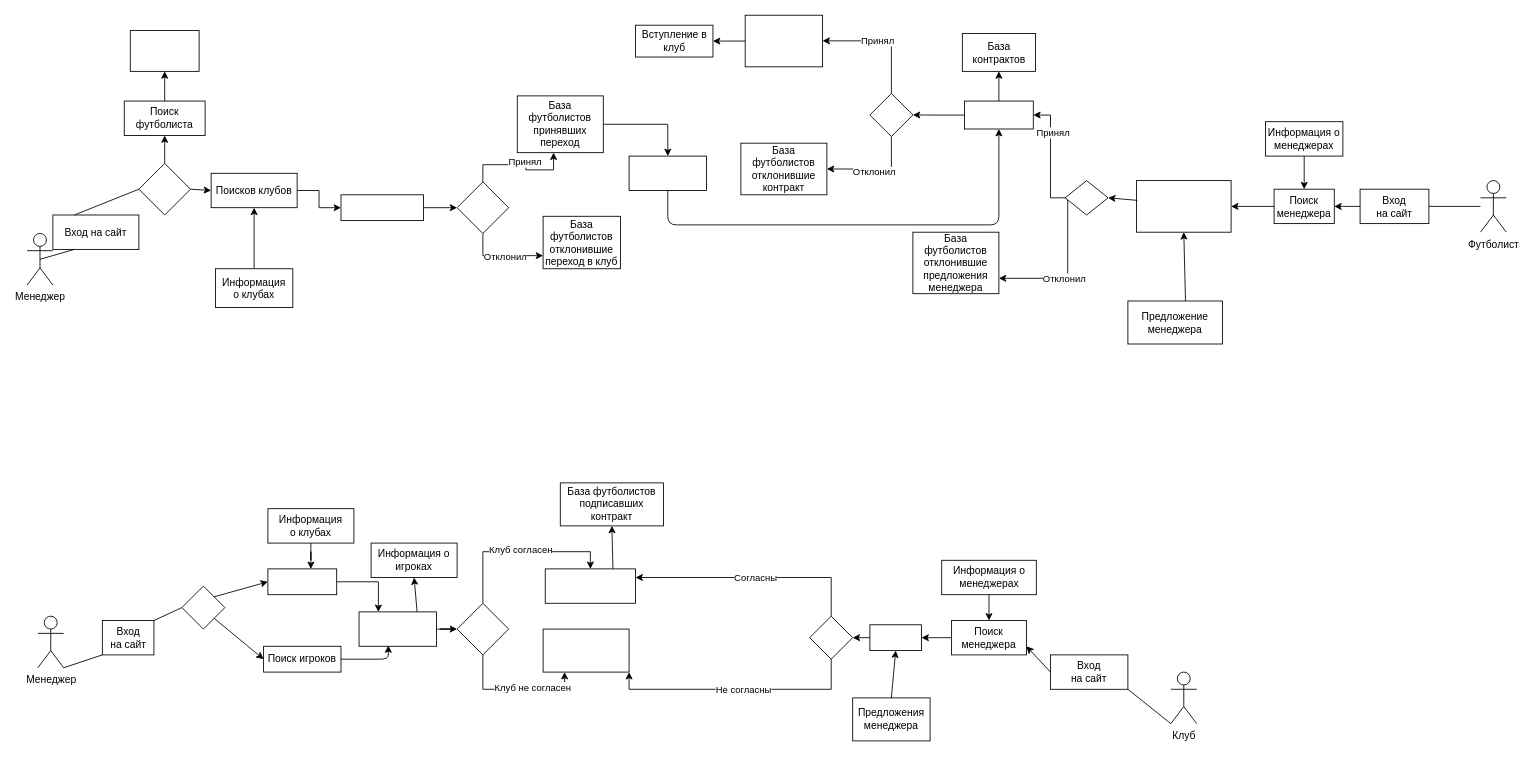
This 1533x757 diagram has some shape labels left out. The box of each missing label's shape, as (x1, y1, x2, y2) in pixels:
База отклонивших предложений: (542, 628, 629, 672)
База футболистов принявших контракт: (744, 14, 823, 67)
Информация о футболистах: (129, 30, 199, 71)
Клуб подписал футболиста: (544, 568, 636, 603)
Переход в клуб: (340, 194, 424, 221)
Подписать игрока: (869, 624, 921, 651)
Поиск клуба: (267, 568, 337, 595)
Предложить игрока: (358, 611, 436, 646)
Предложить контракт: (628, 155, 706, 190)
Просмотр контракта: (964, 100, 1033, 129)
Просмотр предложения менеджера о клубах: (1136, 180, 1231, 232)
